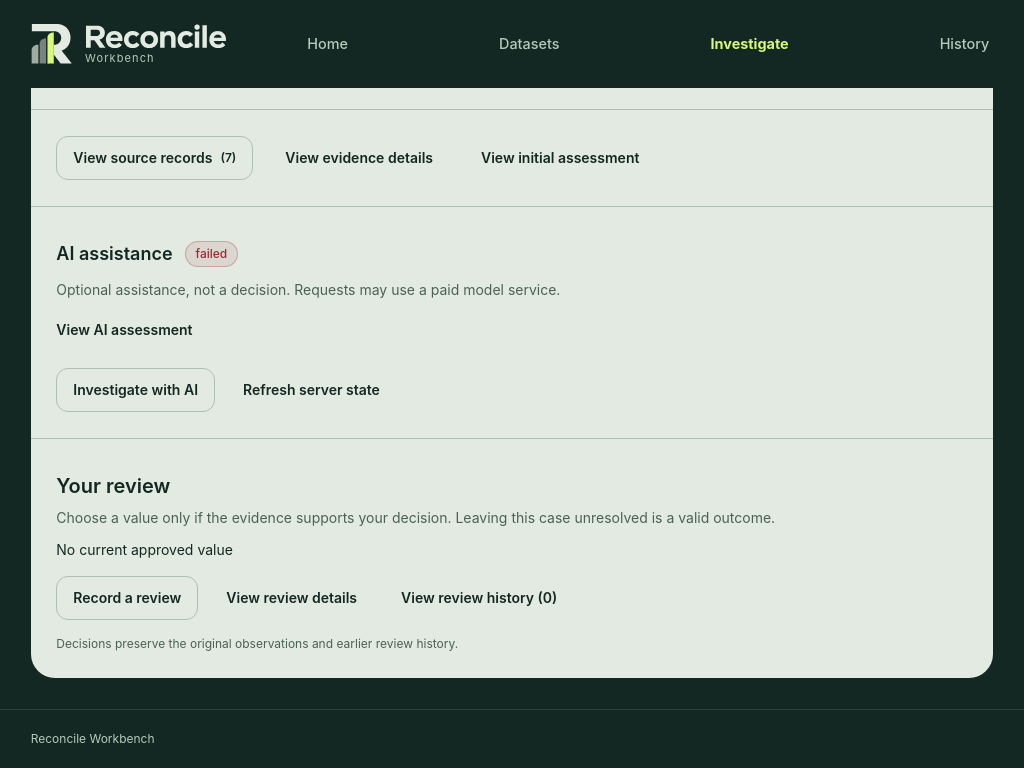
Test: keeps AI failed distinct and prevents accepting it
(page scrolled)
Expected: the heading "Your review" is shown, left=56, top=474, right=170, bottom=498
Click the button "Record a review". click: (127, 598)
box: left=56, top=576, right=198, bottom=620
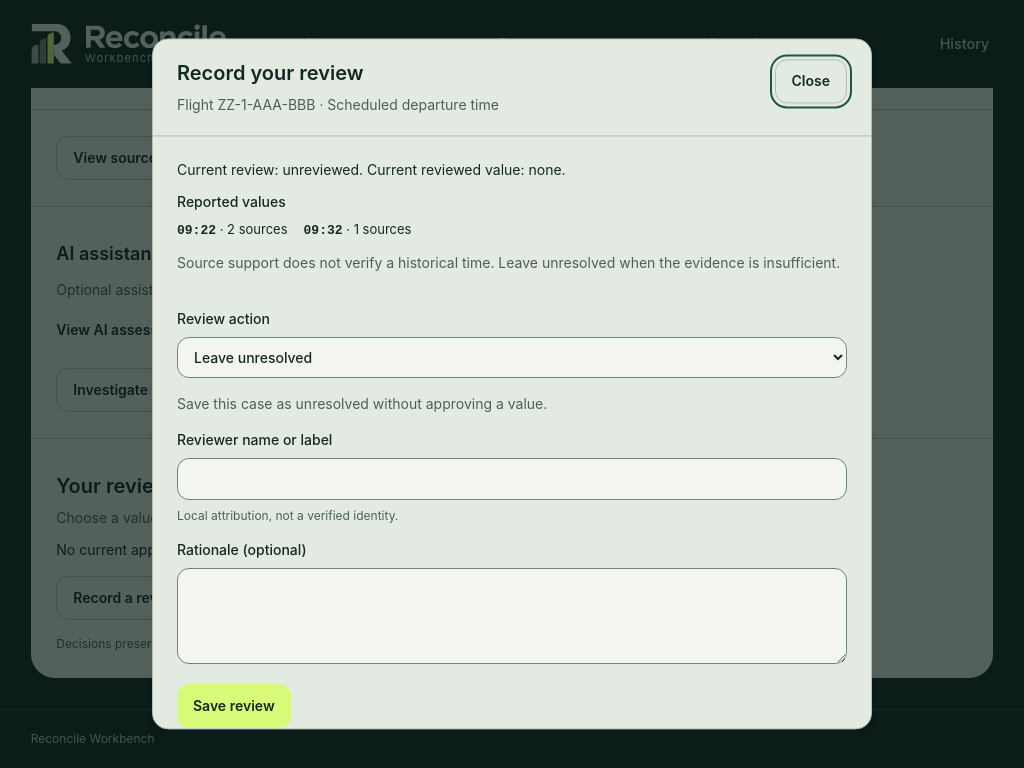
Expected: the text "failed" is shown, left=185, top=241, right=238, bottom=267
Now the button "Save review" is enabled, box left=177, top=684, right=291, bottom=728
